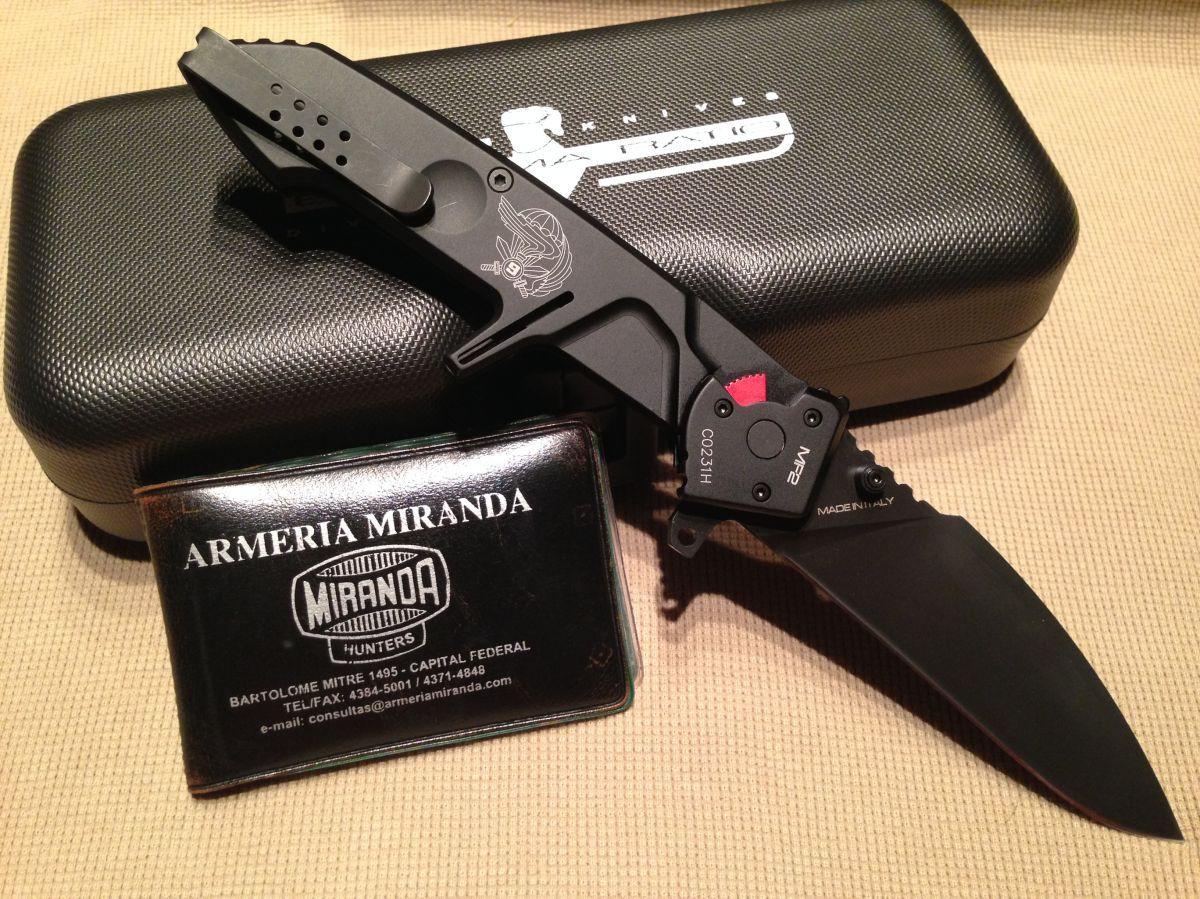knife: (722, 401, 1190, 854)
